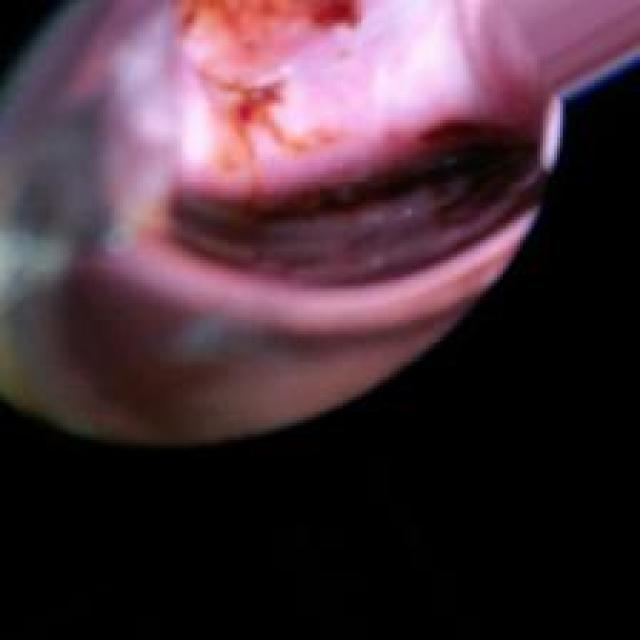type-1: (32, 0, 574, 415)
